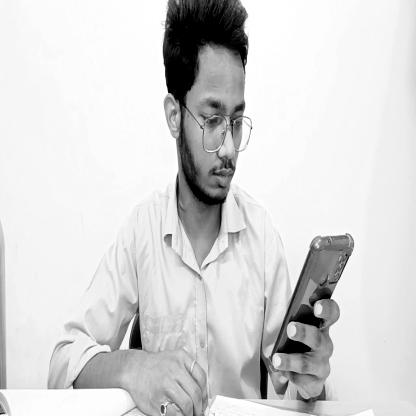Distracted: (167, 1, 257, 212)
